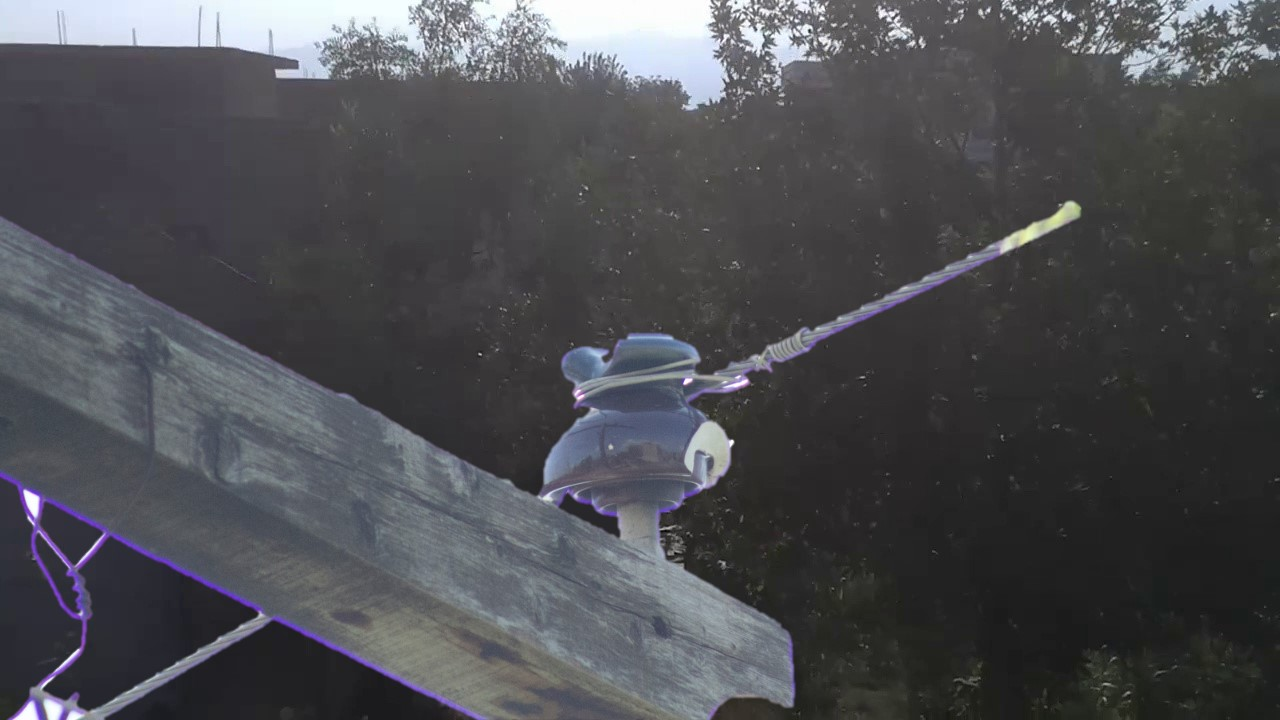defect_pin: (540, 331, 738, 516)
